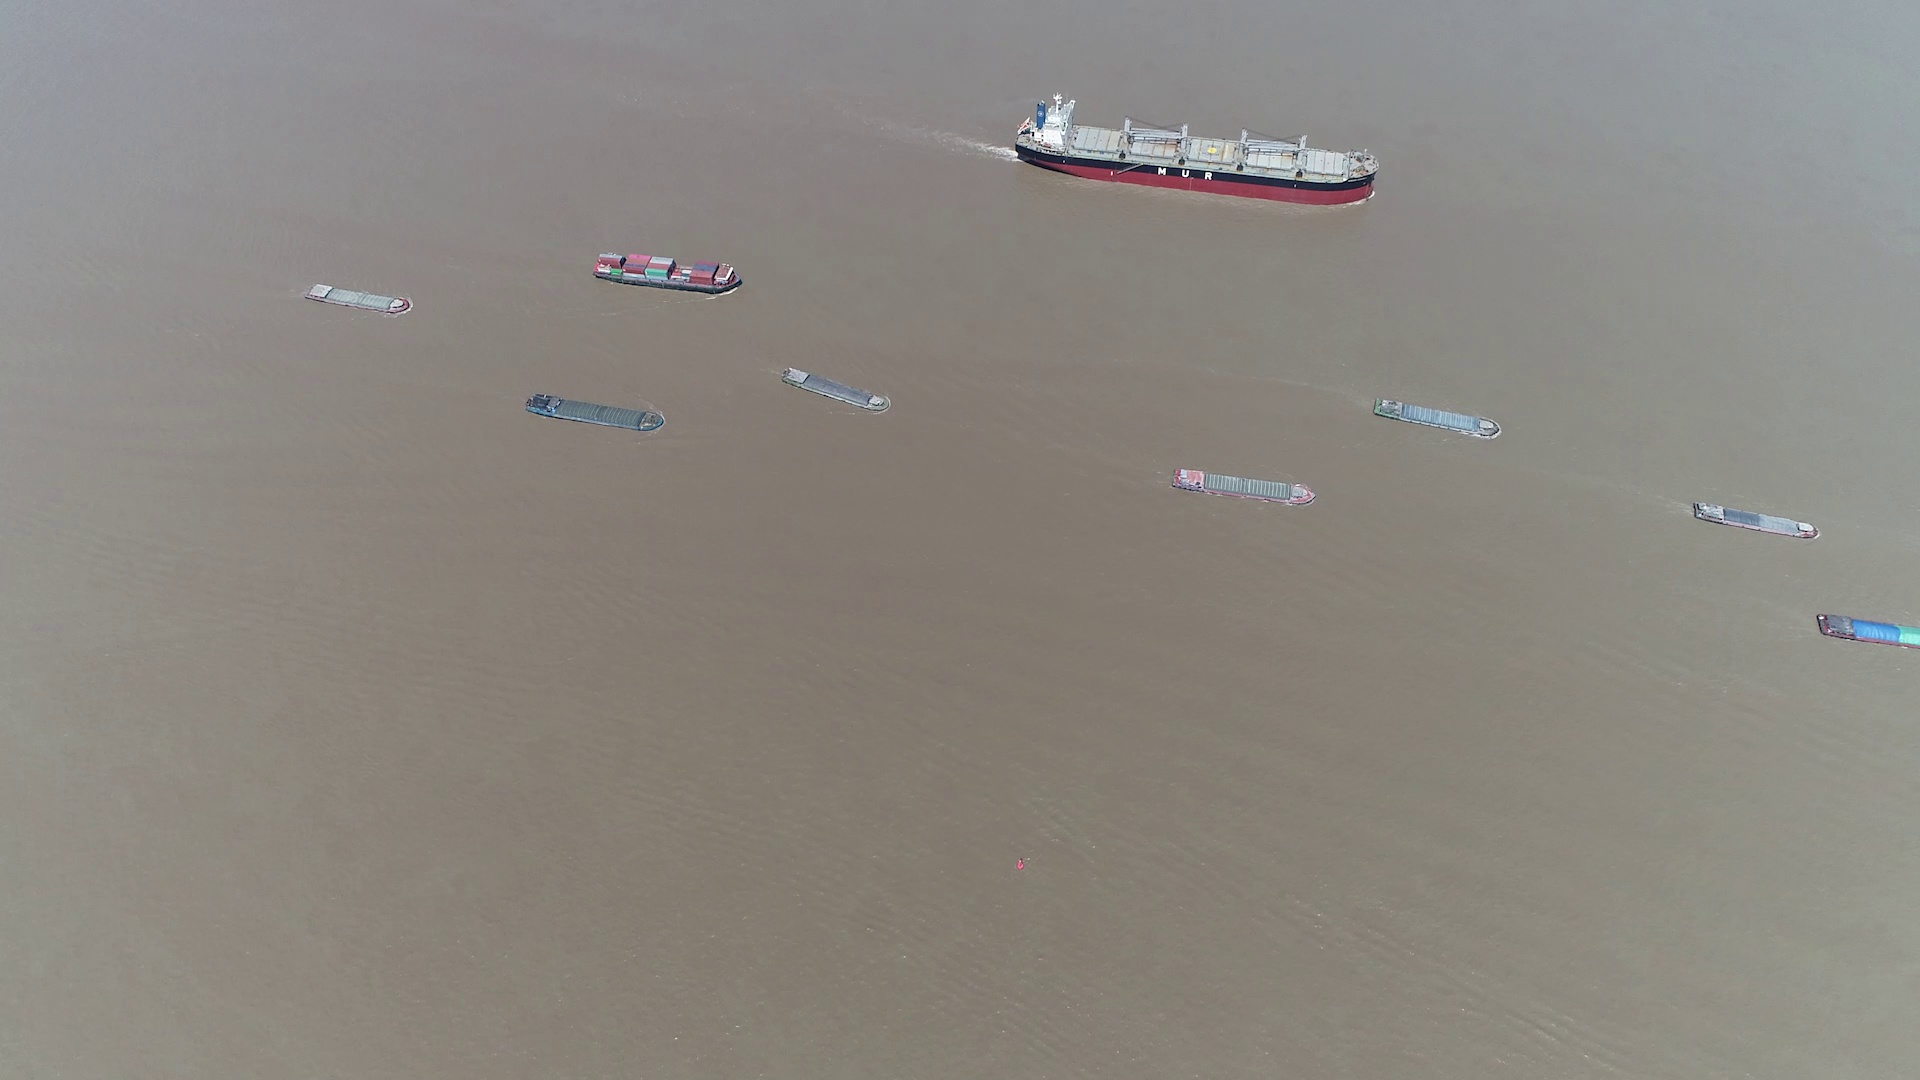ship: (1010, 98, 1375, 202), (591, 253, 742, 294), (1170, 468, 1315, 506), (1373, 397, 1503, 439), (524, 394, 663, 433), (781, 369, 894, 415), (1691, 500, 1816, 541), (1816, 611, 1920, 647), (303, 282, 411, 315)
